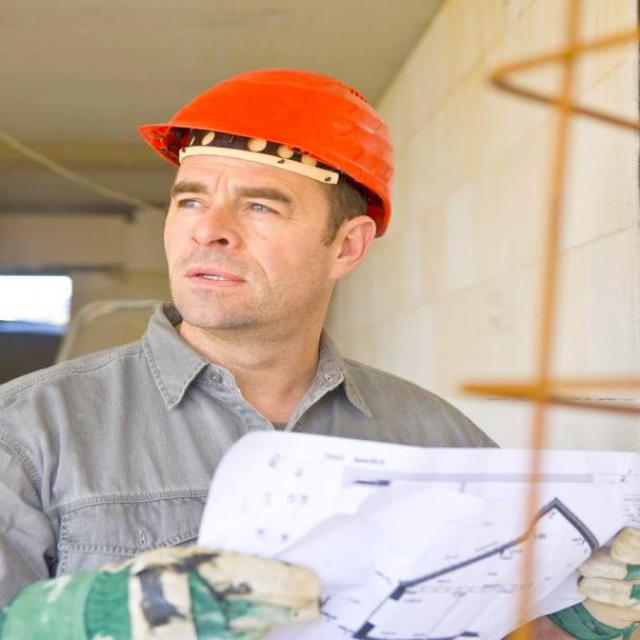helmet: (112, 50, 403, 346)
